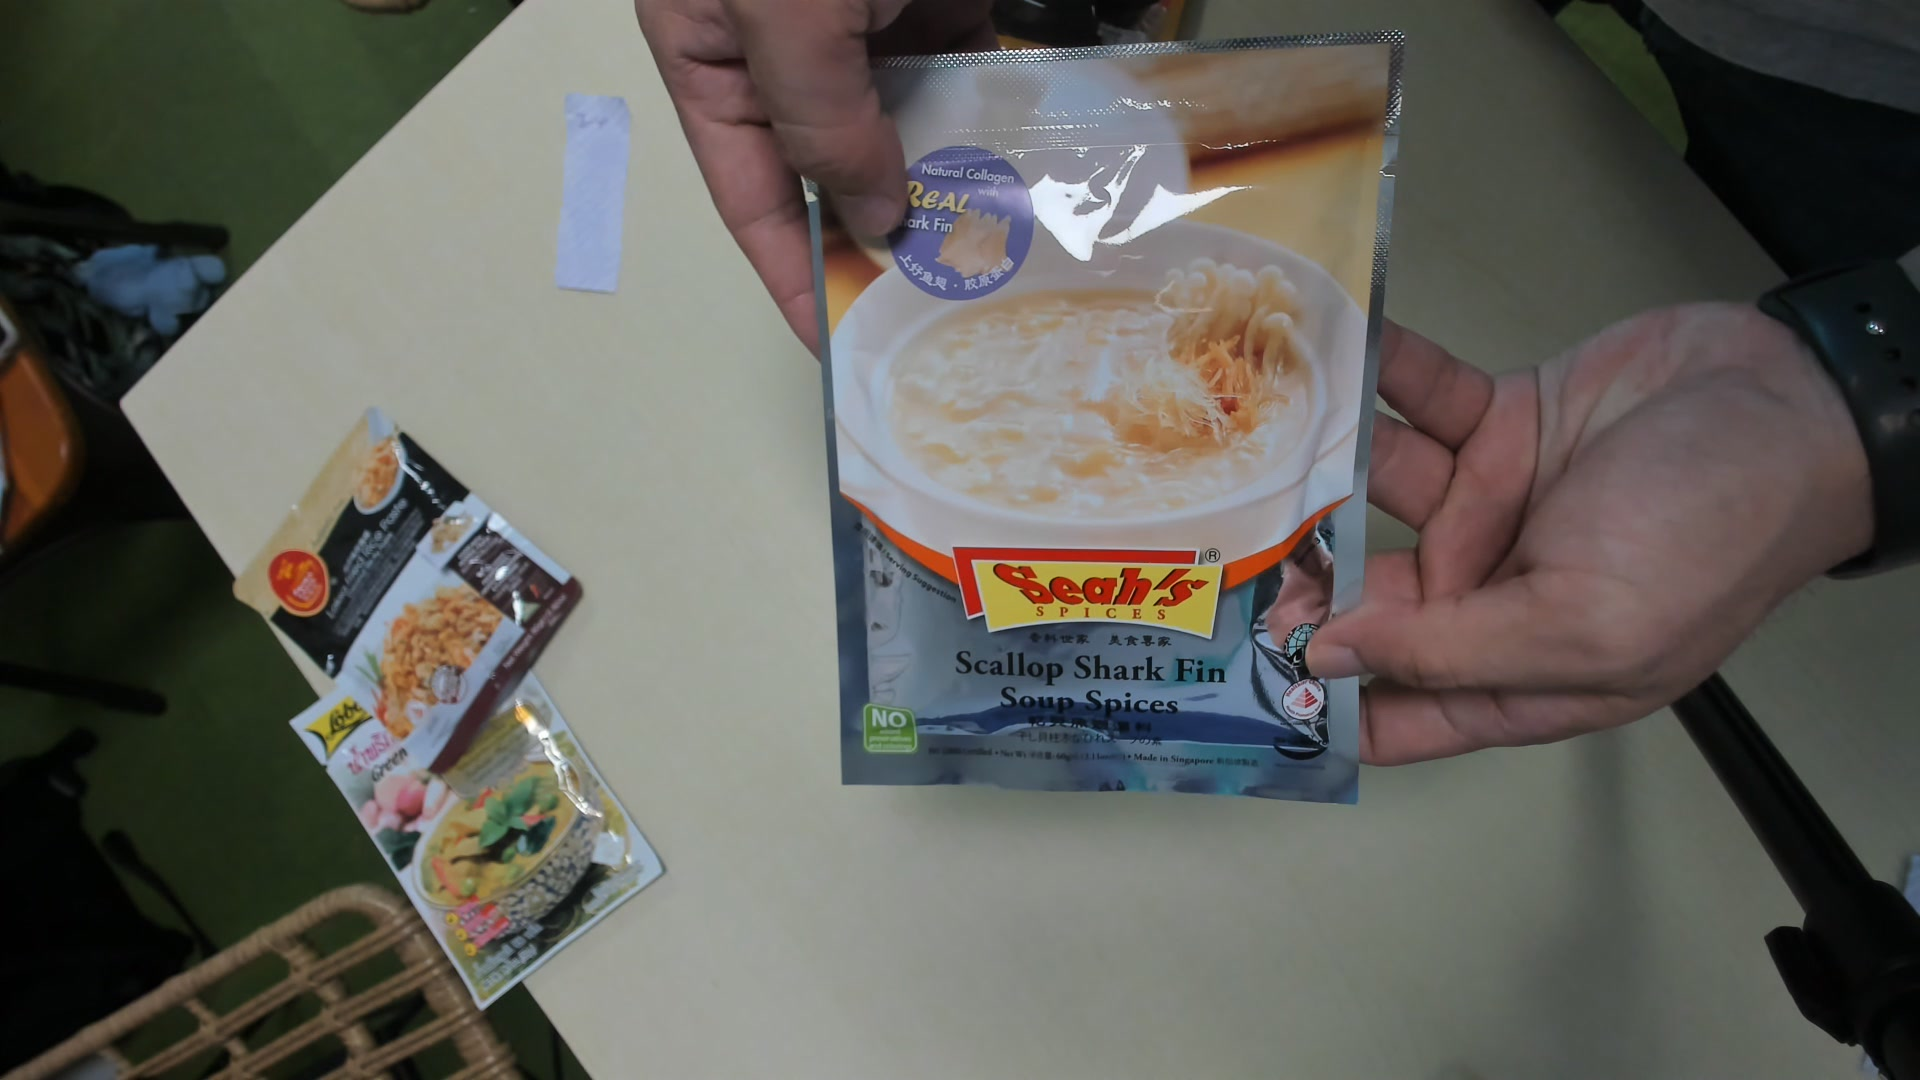OtherSauceDressing_0-99g_Halal_NonHealthy: (803, 50, 1366, 818)
